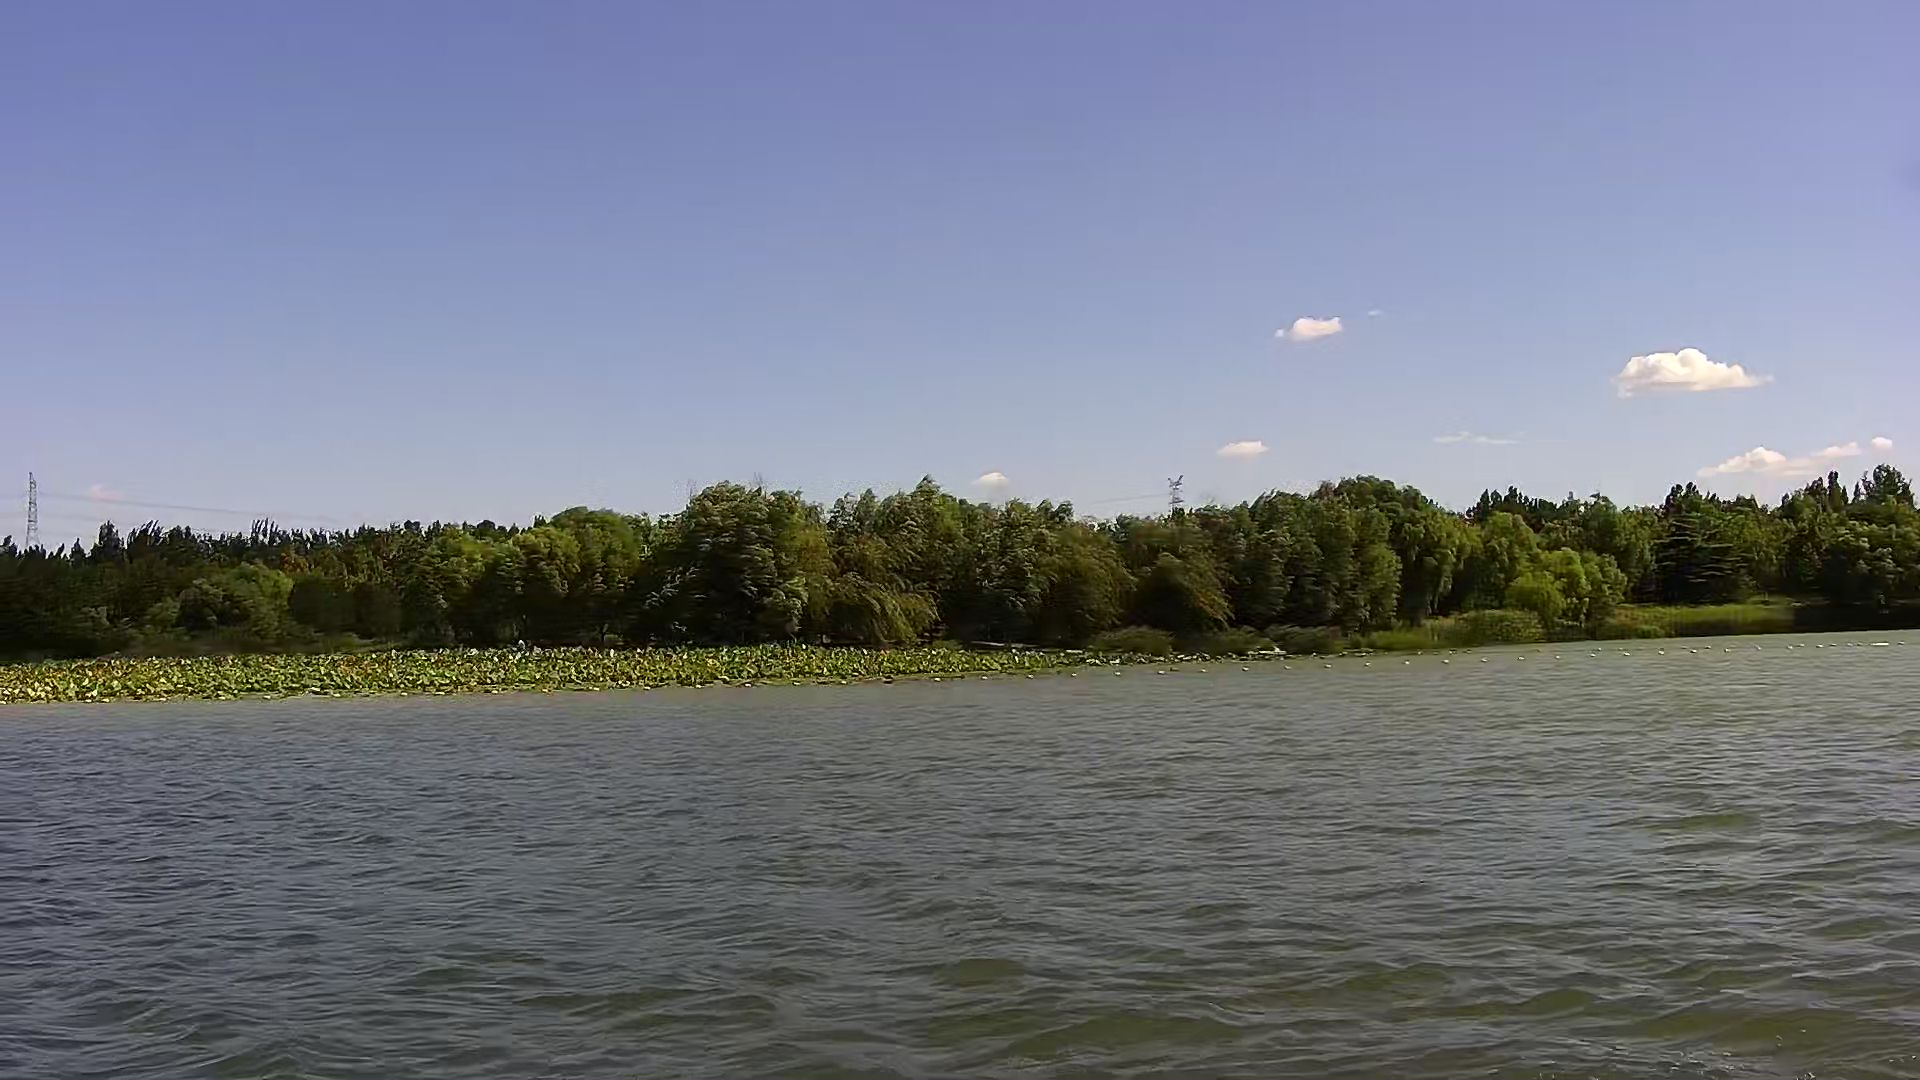grass: (1, 653, 1158, 698)
